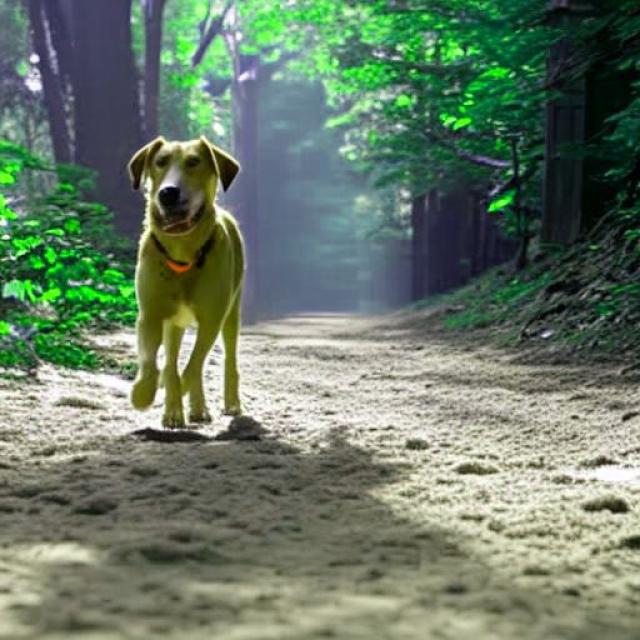Dog: (128, 136, 243, 430)
